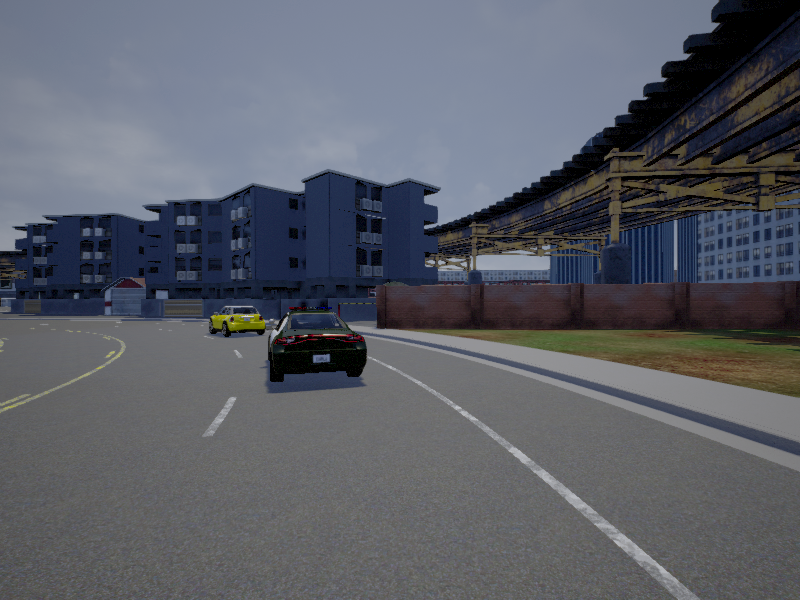Benign: (268, 306, 366, 382), (208, 306, 266, 337)
